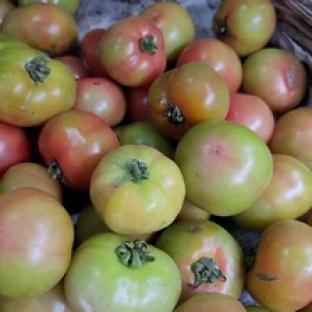Tomato: (175, 120, 272, 215), (65, 233, 181, 311), (90, 144, 185, 235), (0, 189, 73, 298), (155, 219, 245, 302), (38, 111, 119, 190), (148, 63, 229, 139), (0, 46, 76, 126), (233, 154, 311, 229), (247, 221, 311, 311), (99, 16, 167, 86), (243, 48, 307, 112), (2, 3, 77, 57), (176, 38, 242, 93), (140, 2, 194, 62), (269, 106, 311, 169), (74, 77, 126, 126), (226, 92, 275, 143), (0, 162, 62, 201), (0, 280, 72, 311), (115, 122, 174, 158), (0, 122, 32, 176), (76, 202, 110, 246), (80, 28, 107, 76), (175, 293, 245, 311), (124, 85, 151, 122), (55, 53, 89, 79), (176, 198, 210, 220), (0, 33, 26, 50), (244, 306, 269, 311), (299, 301, 311, 311)
